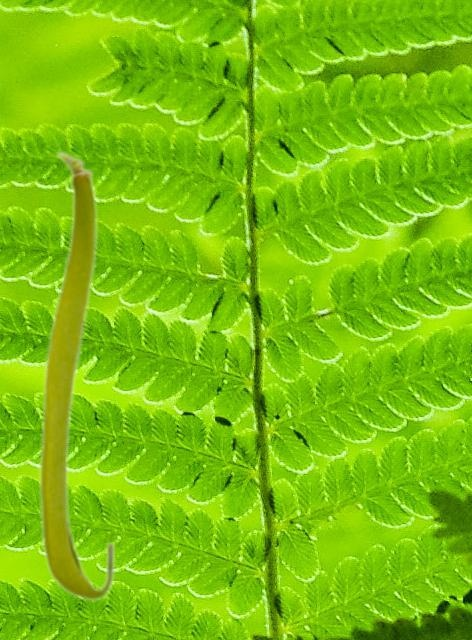french_bean: (37, 149, 115, 601)
